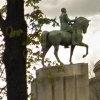Statue: (30, 4, 95, 63)
